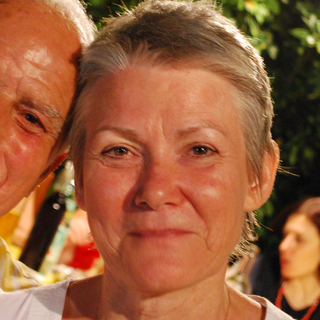eye: (14, 108, 51, 138), (178, 140, 224, 162), (94, 142, 142, 162)
